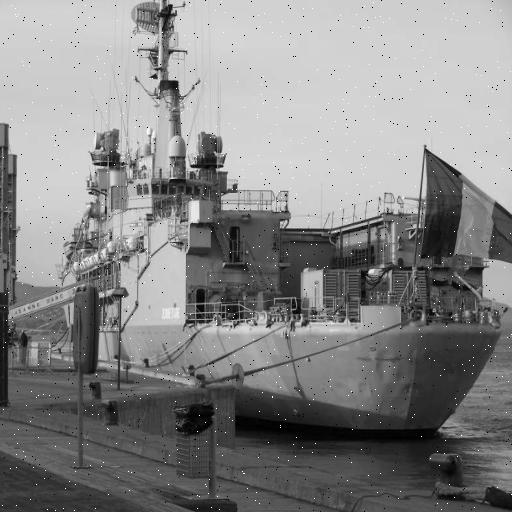Portanaves: (52, 4, 504, 451)
